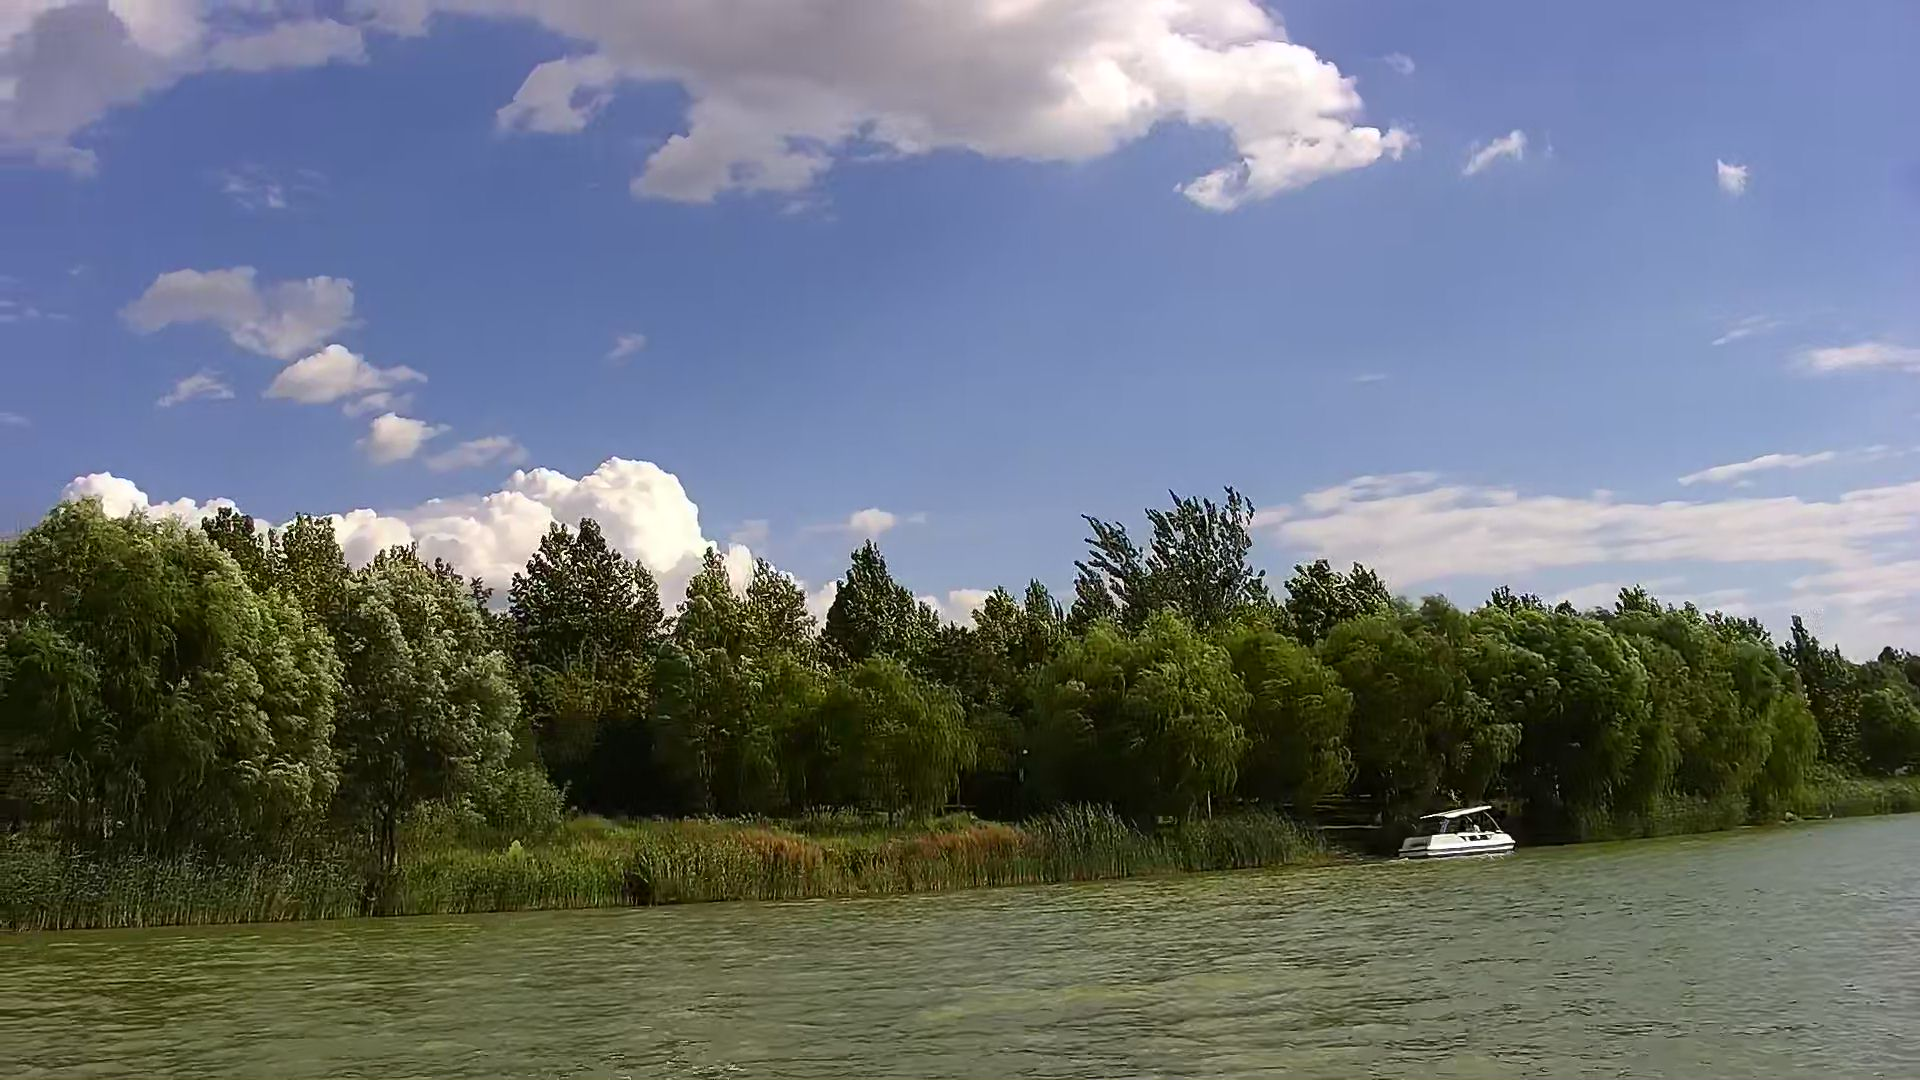boat: (1390, 808, 1520, 856)
